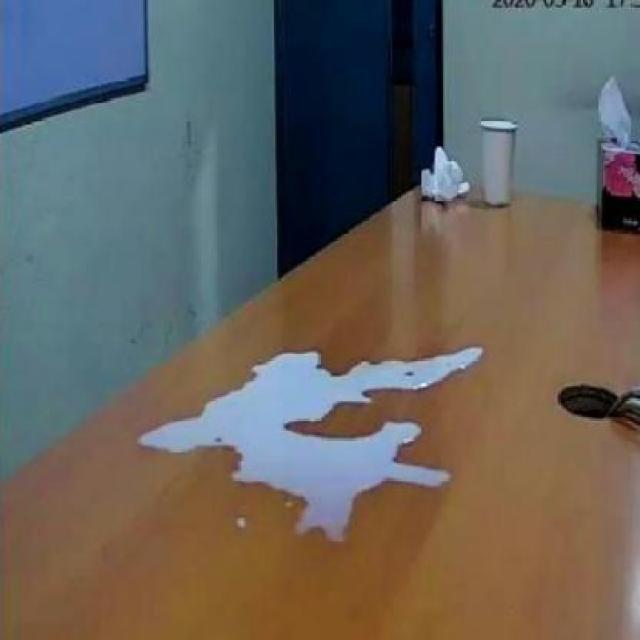spillage: (137, 347, 483, 540)
